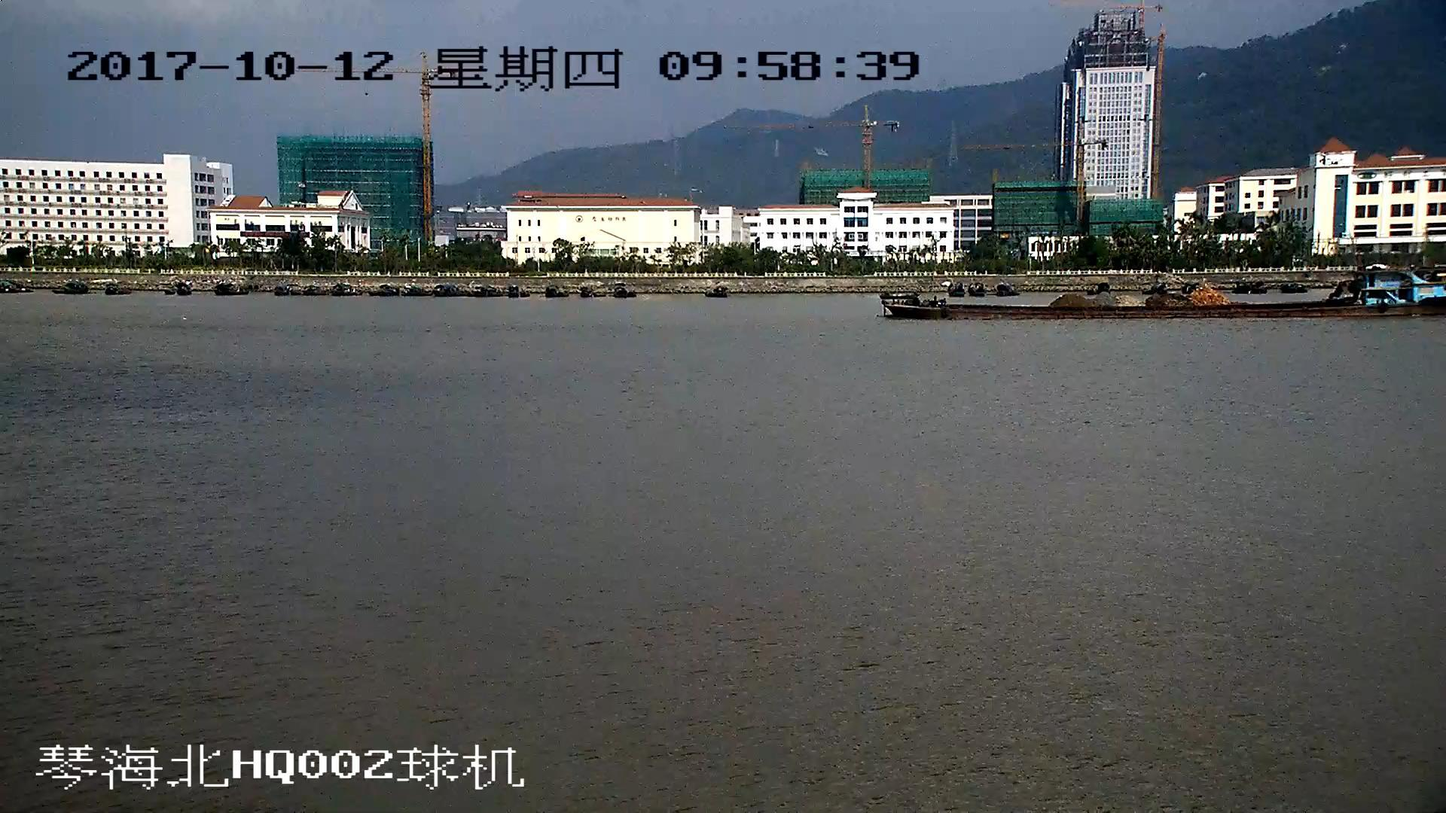ore carrier: (883, 267, 1445, 316)
